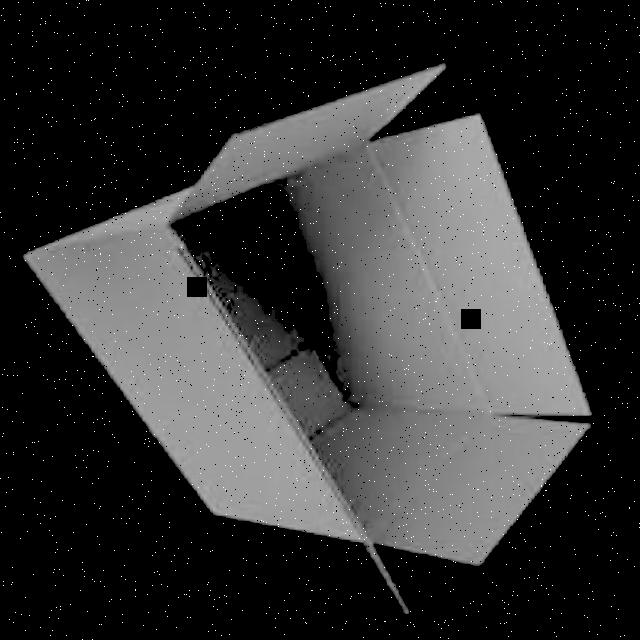cardboard_box: (21, 62, 593, 574)
